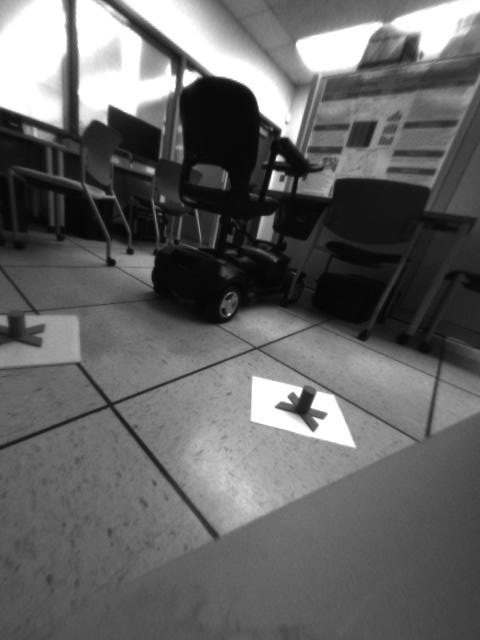X: (275, 385, 330, 432)
